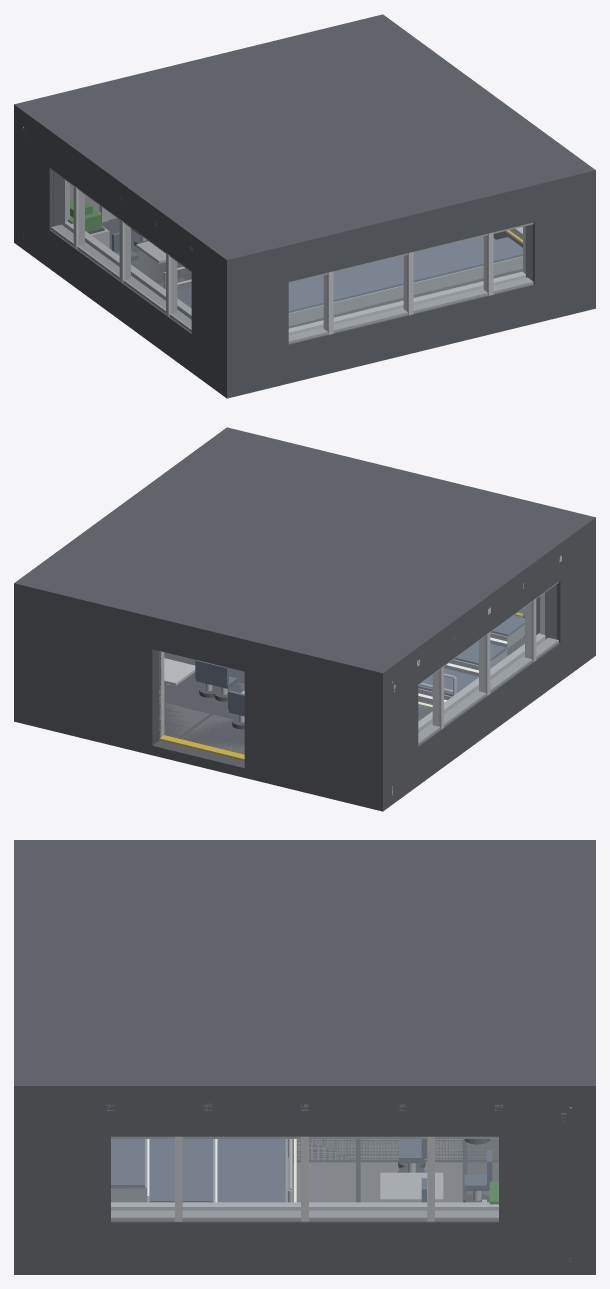
Rendered from room_observation.glb.
3 views of the same model, one above another, from view 1: azimuth 30°, elevation 25°; view 2: azimuth 150°, elevation 25°; view 3: azimuth 270°, elevation 25° (orthographic). The views are drawn at different scales.
Parts seen in each view (by area): view 1: room_observation; view 2: room_observation; view 3: room_observation.
Part boxes in pixels (x1,y1,x2,y2): room_observation: (14,14,595,398); room_observation: (14,427,595,811); room_observation: (14,840,595,1274).
Size of the model in its own units: 12 by 4.3 by 12.
